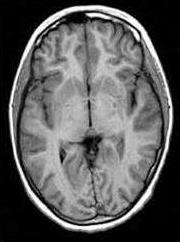Normal_Brain: (1, 1, 180, 242)
